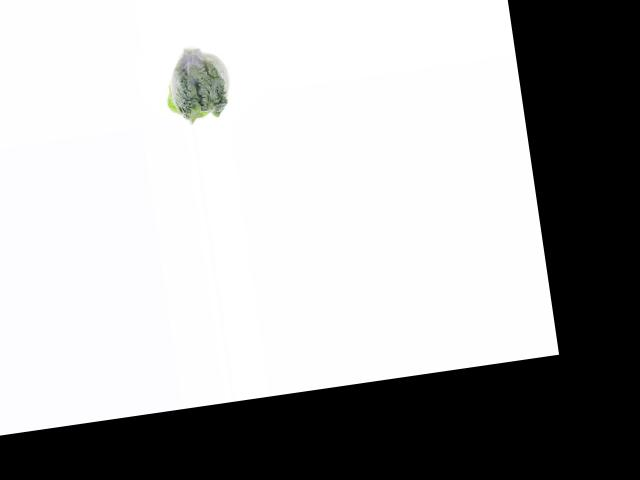lettuce: (156, 43, 236, 125)
